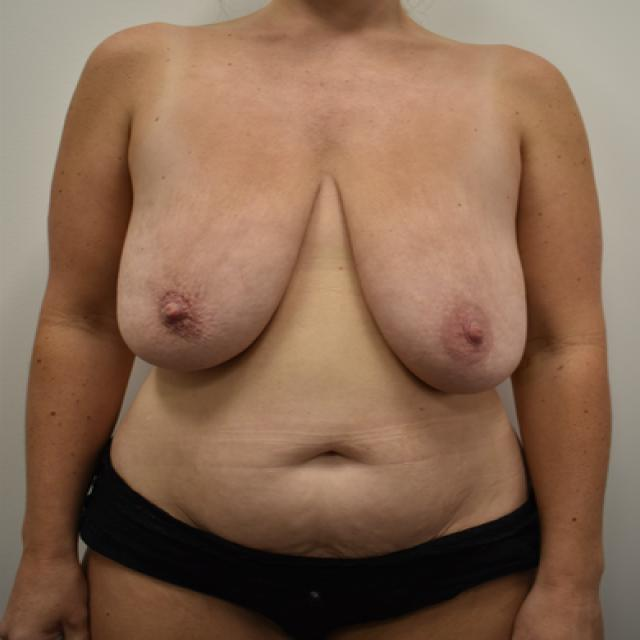Seno ileso: (336, 124, 539, 406), (104, 124, 320, 381)
